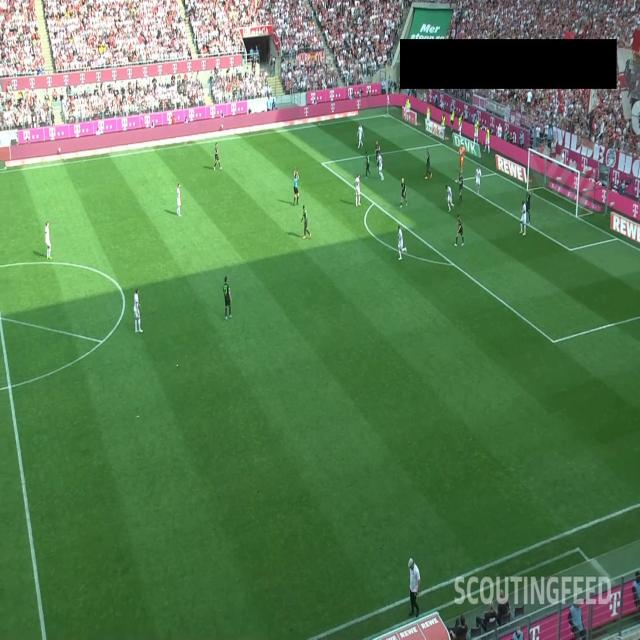ball: (459, 150, 462, 156)
